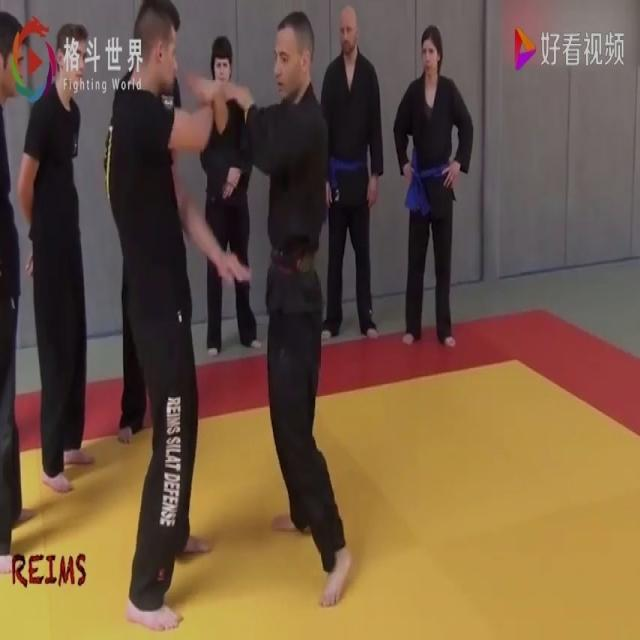fight: (101, 2, 362, 630)
non-fight: (388, 20, 474, 353), (313, 0, 388, 344)
